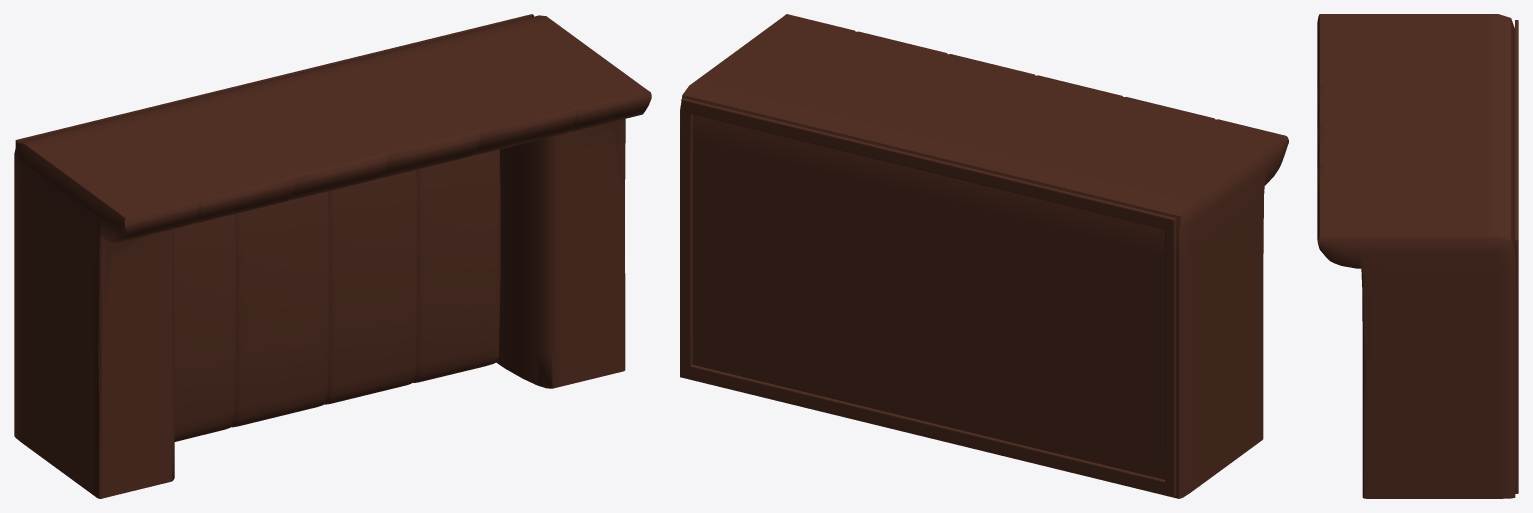
Rendered from MeshRobothorSofaKramfors_0_GeomSubset_1.obj.
3 views of the same model, side by side, from view 1: azimuth 30°, elevation 25°; view 2: azimuth 150°, elevation 25°; view 3: azimuth 270°, elevation 25° (orthographic). The views are drawn at different scales.
Visible parts, largest first — view 1: MeshRobothorSofaKramfors_0_GeomSubset_1; view 2: MeshRobothorSofaKramfors_0_GeomSubset_1; view 3: MeshRobothorSofaKramfors_0_GeomSubset_1.
Boxes of the visible parts, x1,y1,x2,y2 form: MeshRobothorSofaKramfors_0_GeomSubset_1: (14, 14, 651, 498); MeshRobothorSofaKramfors_0_GeomSubset_1: (680, 14, 1288, 498); MeshRobothorSofaKramfors_0_GeomSubset_1: (1317, 14, 1518, 498).
Size of the model in its own units: 1.68 by 0.9087 by 0.6339.
